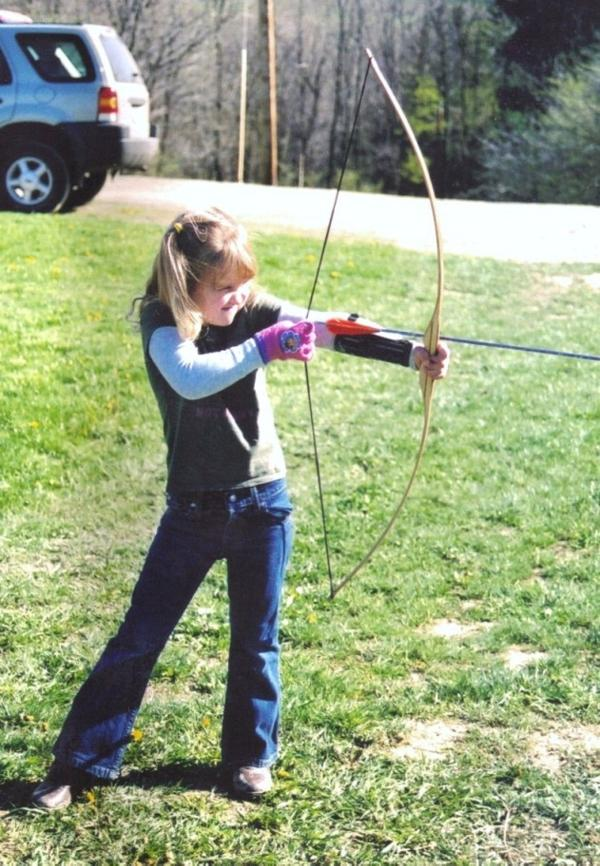person: (31, 206, 451, 814)
